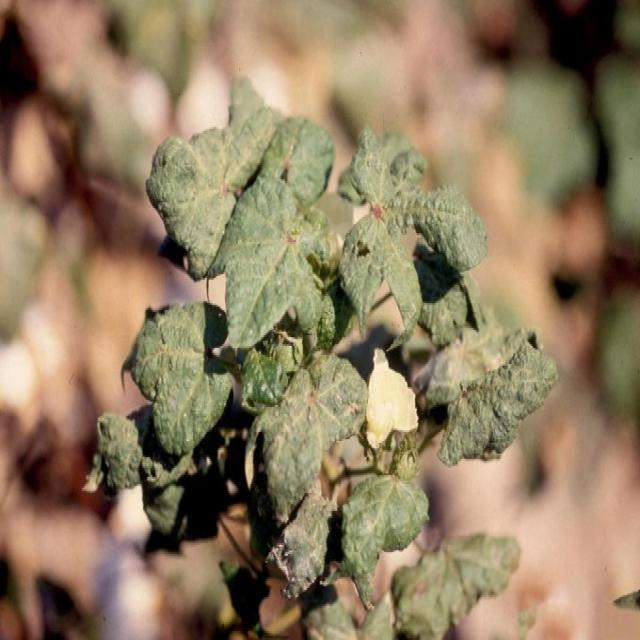Leaf Curl Virus: (185, 138, 460, 588)
